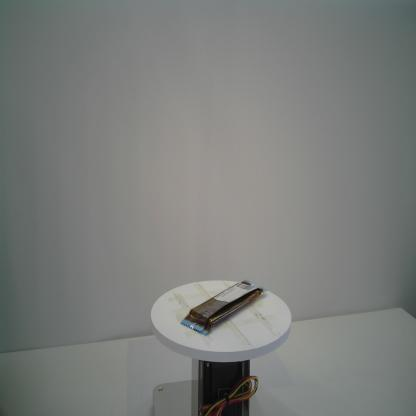Chocolate: (177, 277, 268, 335)
